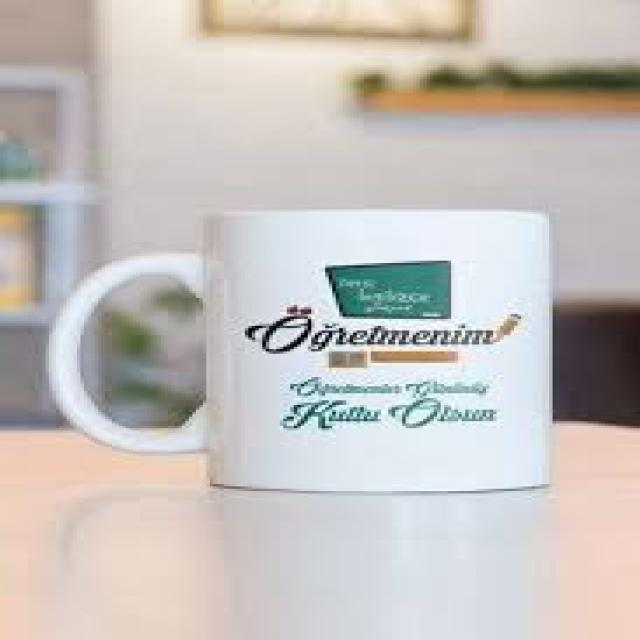taza: (47, 208, 553, 496)
